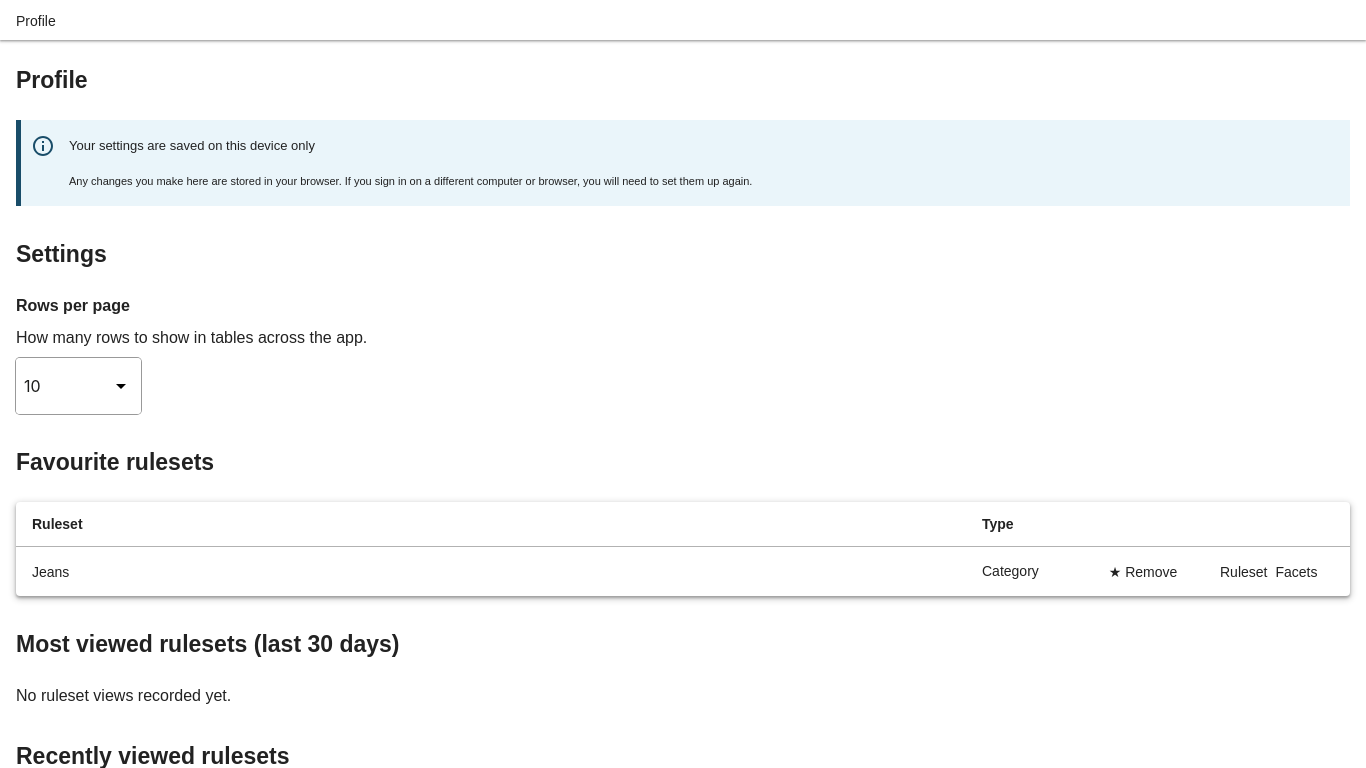
Test: Profile page › favourite rulesets section › should display an error when removing a favourite fails to persist
Step 1. Click the button with aria-label "Remove Jeans from favourites" → (1143, 571), box [1098, 559, 1188, 583]
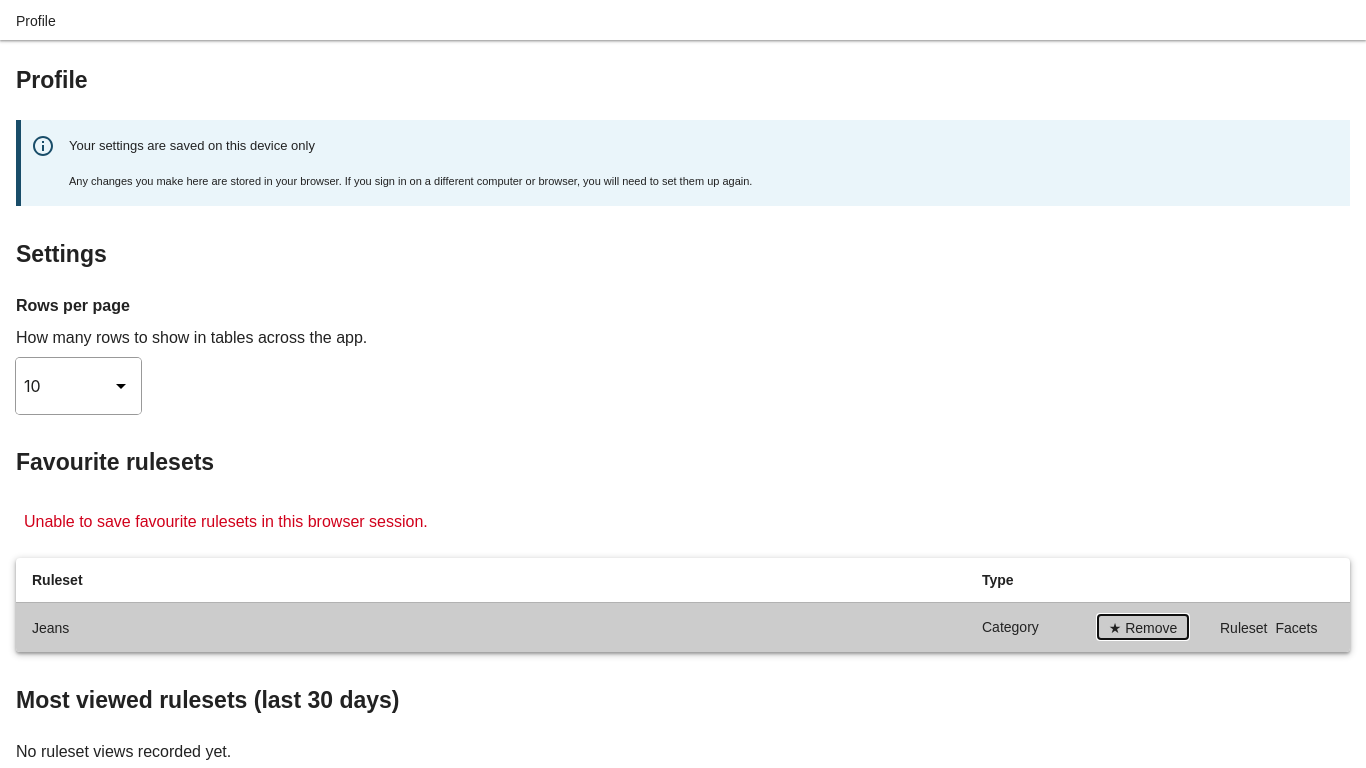
Check: the text "Unable to save favourite rulesets in this browser session." is shown, box [24, 513, 428, 530]
